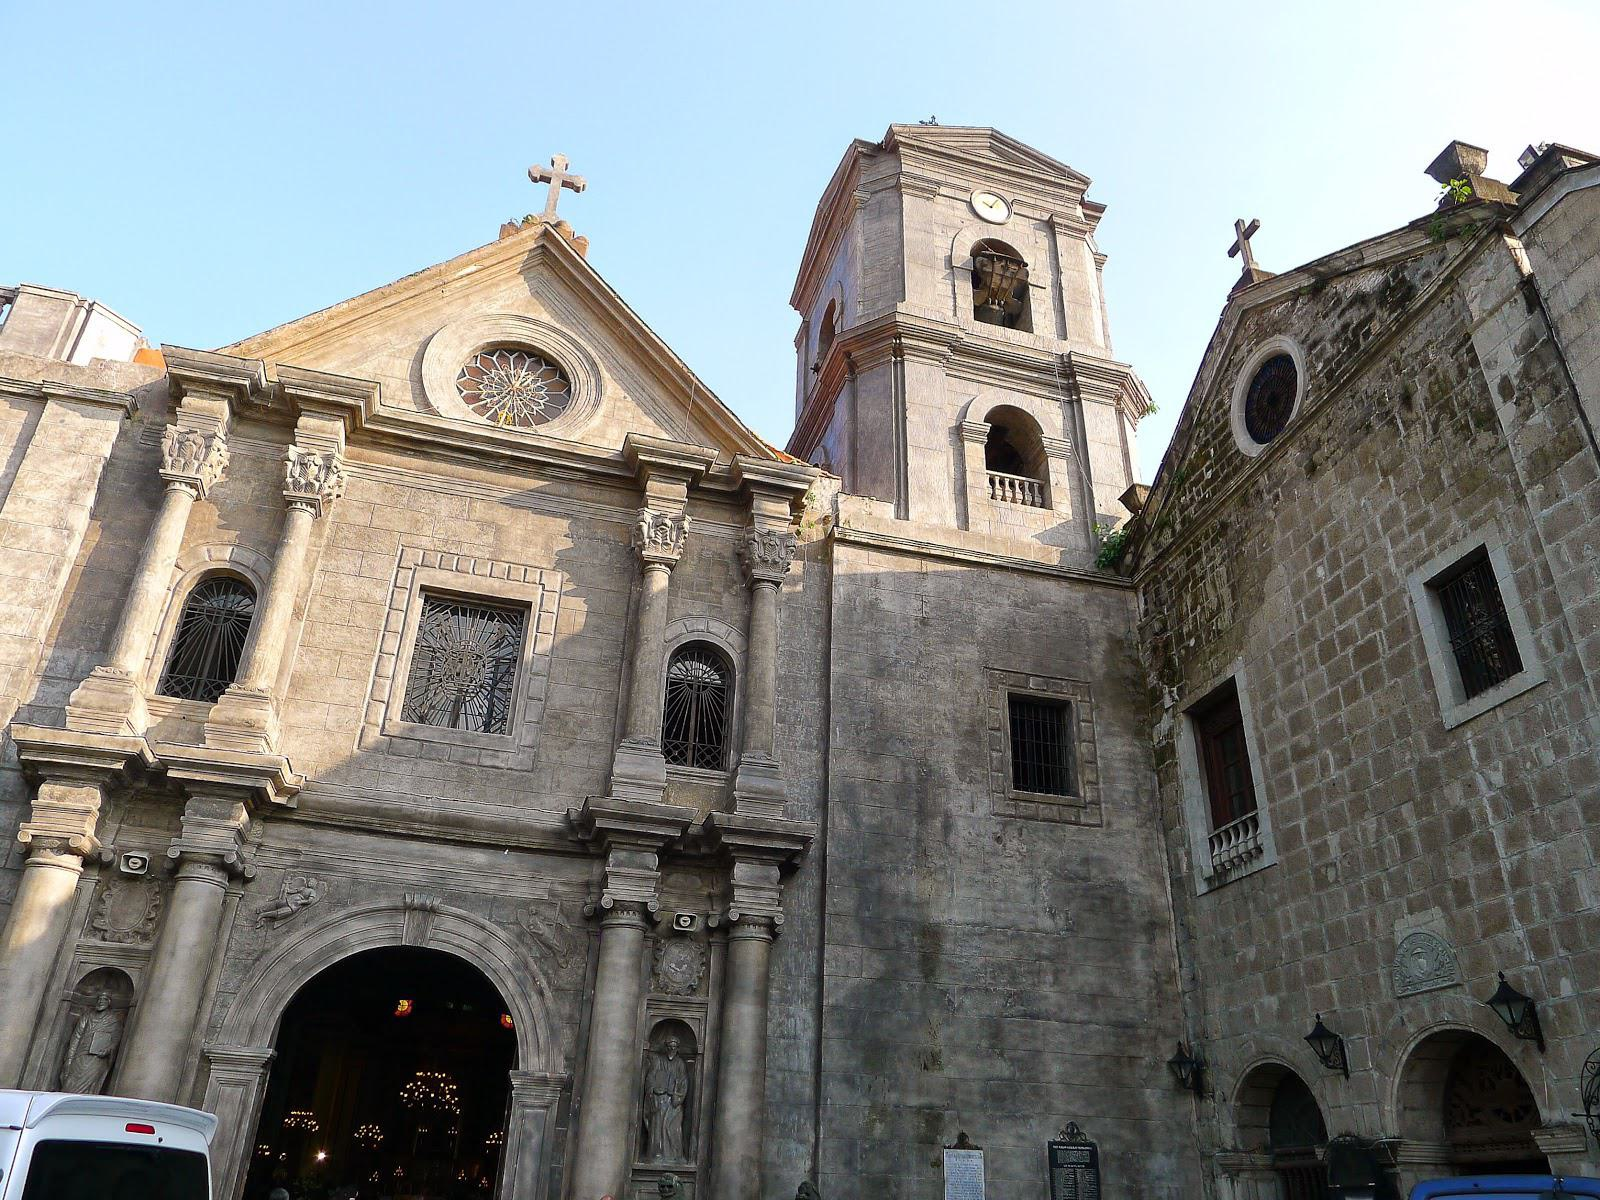san_agustin_church_intramuros_manila: (81, 54, 1216, 1200)
